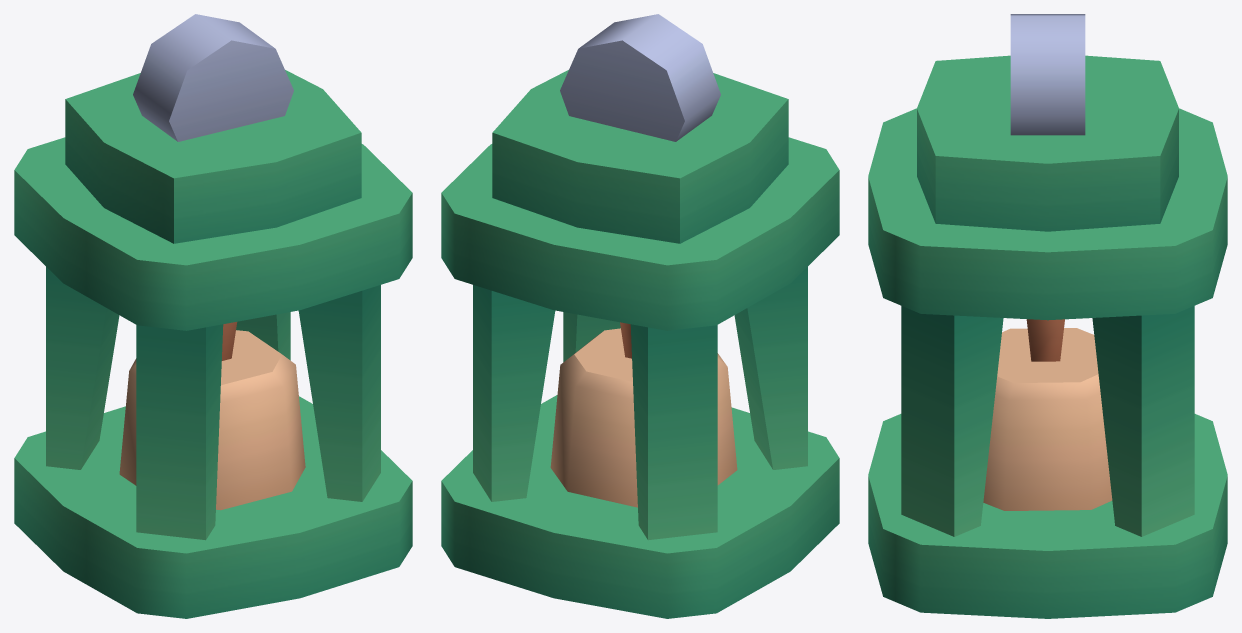
Rendered from lantern-candle.glb.
3 views of the same model, side by side, from view 1: azimuth 30°, elevation 25°; view 2: azimuth 150°, elevation 25°; view 3: azimuth 270°, elevation 25° (orthographic). The views are drawn at different scales.
Parts seen in each view (by area): view 1: lantern-candle; view 2: lantern-candle; view 3: lantern-candle.
Boxes of the visible parts, box(x1,y1,x2,y2) form: lantern-candle: box(14, 14, 412, 618); lantern-candle: box(441, 14, 839, 618); lantern-candle: box(868, 14, 1227, 618).
Bounding box in the file's own units: 0.24 × 0.3877 × 0.24.
1 material, 1 textured.
